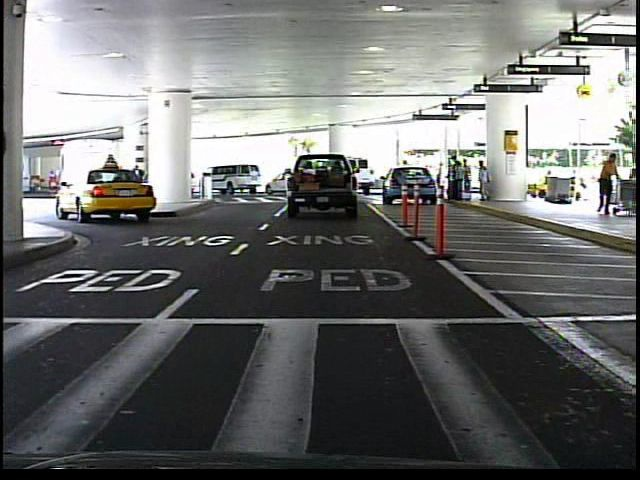person: (595, 150, 623, 220), (398, 158, 413, 196)
